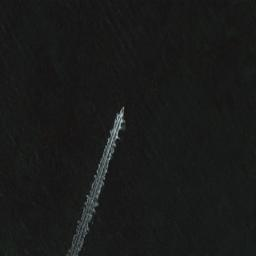boat: (119, 103, 125, 115)
